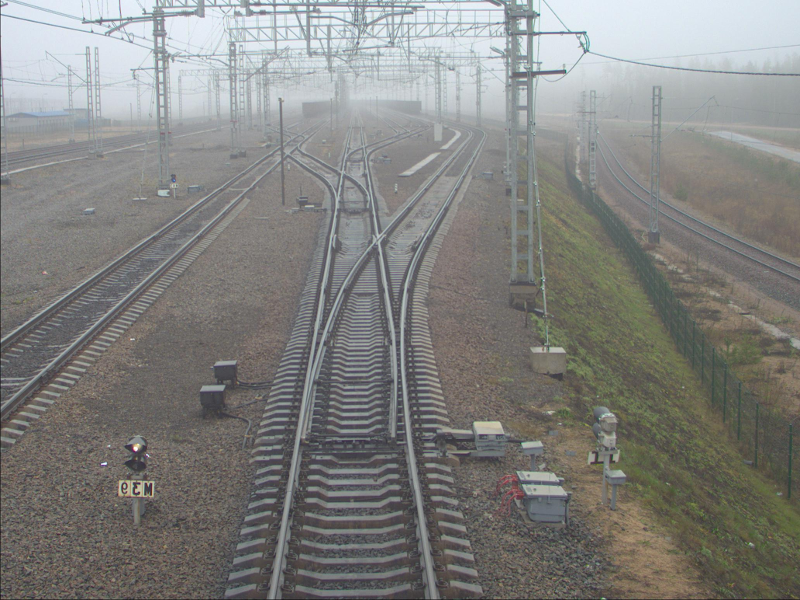right: (293, 231, 411, 439), (336, 170, 373, 209)
